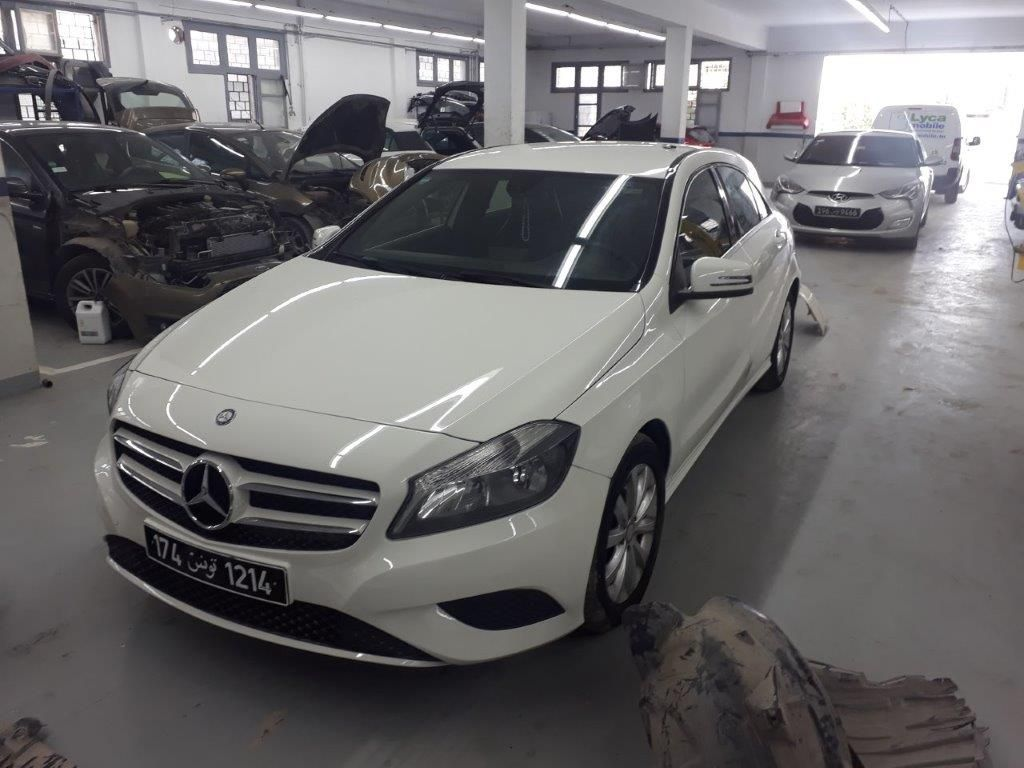LP: (143, 522, 289, 608)
